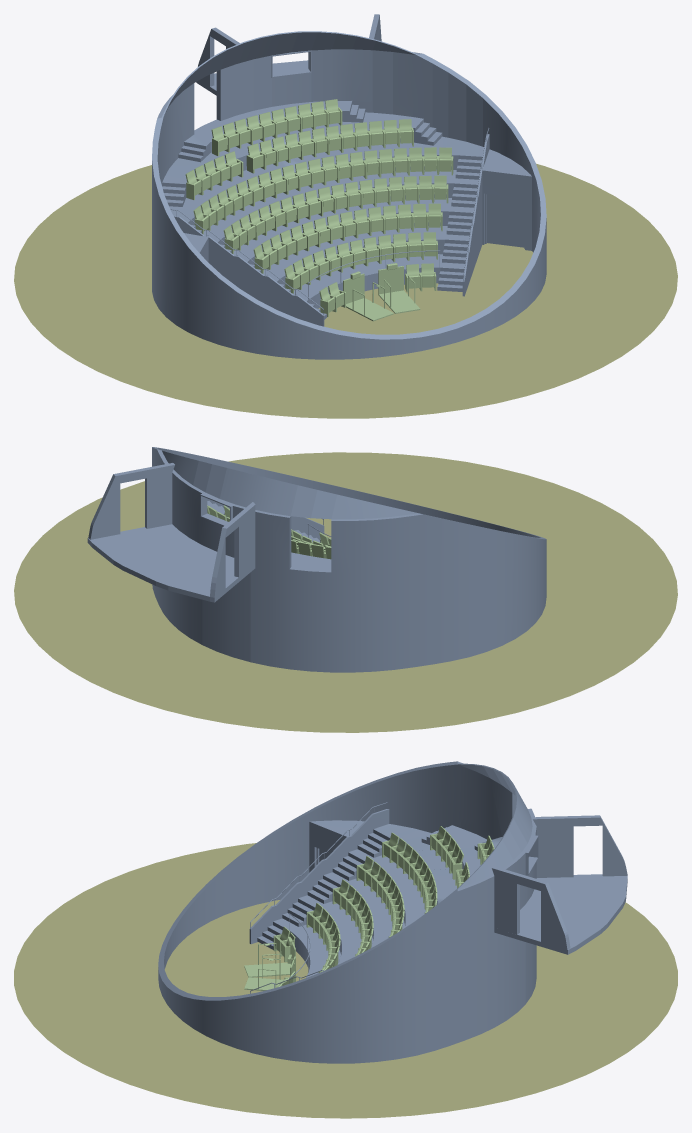
The model's file is wisdome-no-screen.glb.
3 renders of one model, top to bottom at view 1: azimuth 30°, elevation 25°; view 2: azimuth 150°, elevation 25°; view 3: azimuth 270°, elevation 25°, orthographic.
Visible parts, largest first — view 1: Floor, Main_Structure, Chairs; view 2: Floor, Main_Structure, Chairs; view 3: Main_Structure, Floor, Chairs.
Part boxes in pixels (x1,y1,x2,y2): Floor: [14, 163, 677, 418]; Main_Structure: [152, 14, 546, 359]; Chairs: [185, 99, 453, 321]; Floor: [14, 452, 677, 732]; Main_Structure: [87, 447, 546, 672]; Chairs: [207, 505, 331, 559]; Main_Structure: [158, 761, 627, 1063]; Floor: [14, 843, 677, 1118]; Chairs: [244, 826, 494, 990].
Bounding box in the file's own units: 25.06 × 7.46 × 25.03.
